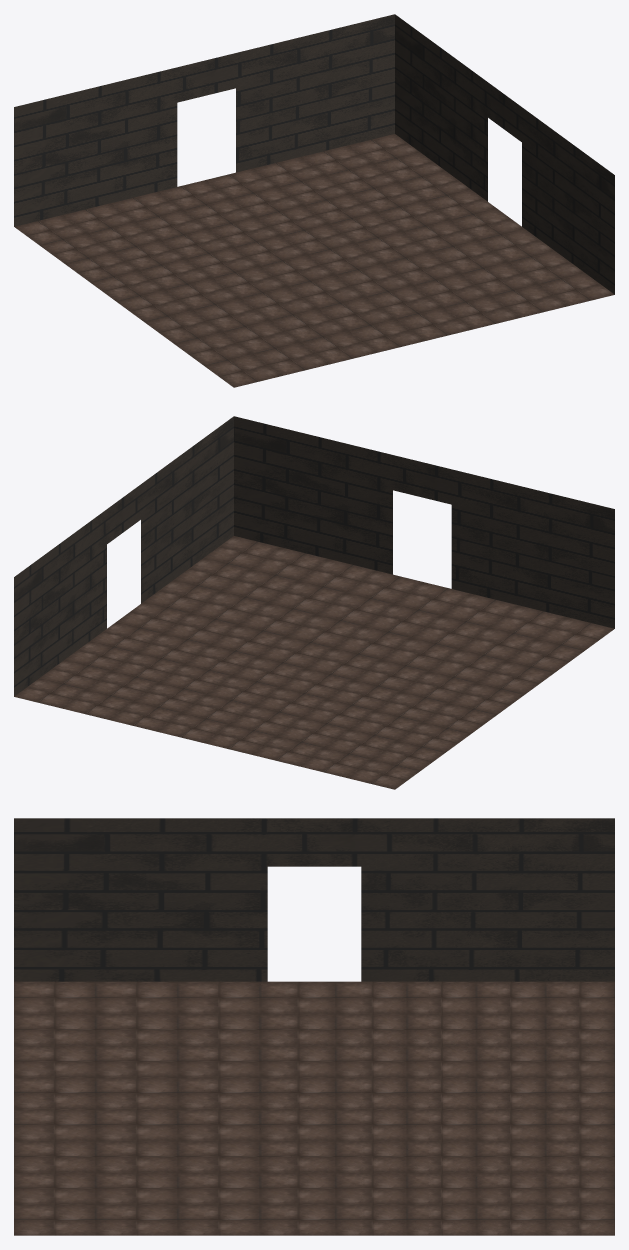
The model's file is salle_texture_max.fbx.
The picture shows the model from 3 angles, top to bottom: view 1: azimuth 30°, elevation 25°; view 2: azimuth 150°, elevation 25°; view 3: azimuth 270°, elevation 25°; orthographic projection. The views are drawn at different scales.
Visible parts, largest first — view 1: Box001; view 2: Box001; view 3: Box001.
Part boxes in pixels (x1,y1,x2,y2): Box001: (14,14,614,387); Box001: (14,416,614,789); Box001: (14,818,614,1235).
Size of the model in its own units: 1000 by 300 by 1000.
